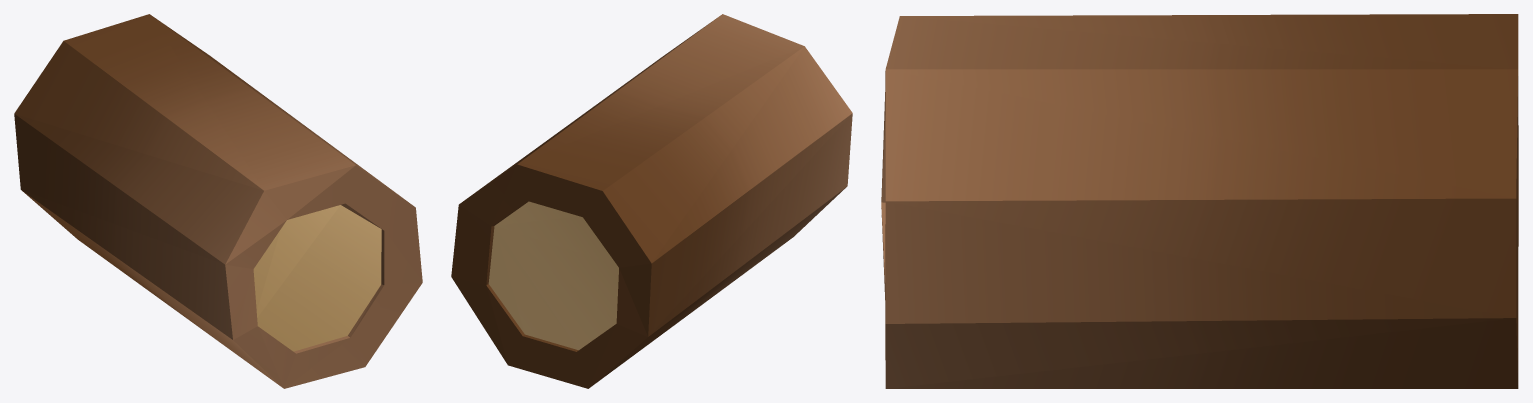
File: Log_Short.gltf
3 views of the same model, side by side, from view 1: azimuth 30°, elevation 25°; view 2: azimuth 150°, elevation 25°; view 3: azimuth 270°, elevation 25° (orthographic). The views are drawn at different scales.
Parts seen in each view (by area): view 1: Log_Short; view 2: Log_Short; view 3: Log_Short.
Part boxes in pixels (x1=…): Log_Short: x1=14, y1=14, x2=422, y2=388; Log_Short: x1=451, y1=14, x2=852, y2=388; Log_Short: x1=881, y1=14, x2=1518, y2=388.
Bounding box in the file's own units: 0.365 × 0.3593 × 0.651.
Materials: 1 (1 with a texture image).
